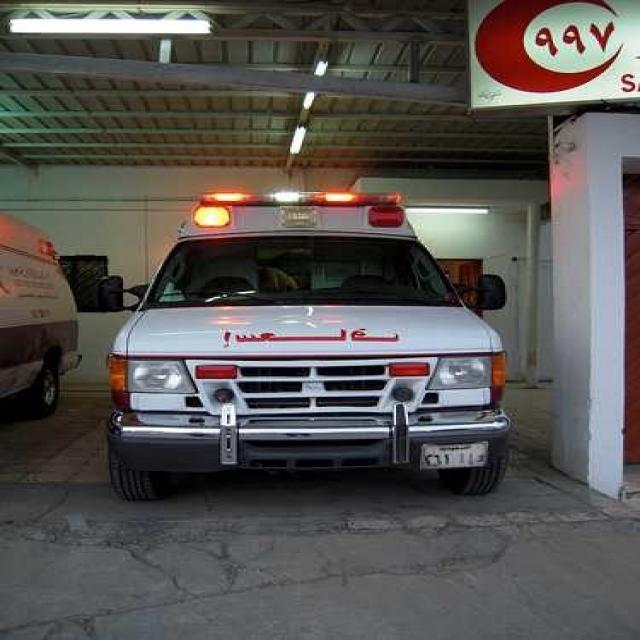emergency-vehicle: (108, 168, 526, 498)
